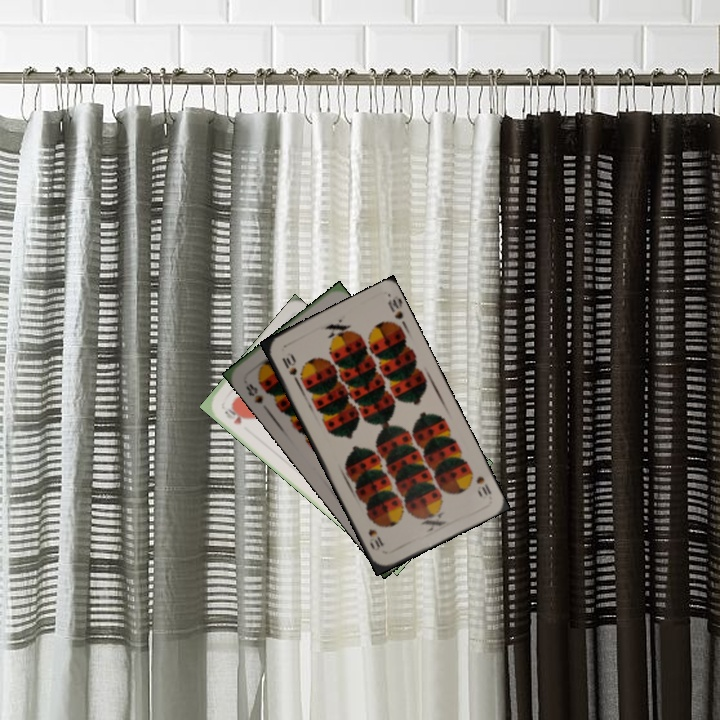HO: (220, 403, 245, 427)
S10: (278, 349, 301, 386), (472, 472, 494, 498)
S8: (242, 379, 266, 406)
